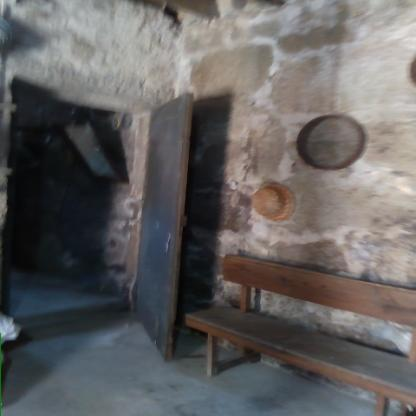open: (0, 85, 201, 356)
